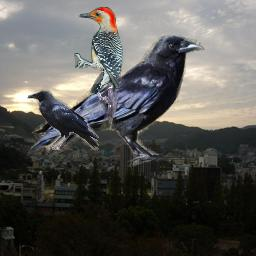Crow: (28, 31, 205, 168), (27, 89, 99, 150)
Woodpecker: (74, 7, 125, 94), (91, 75, 119, 130)
